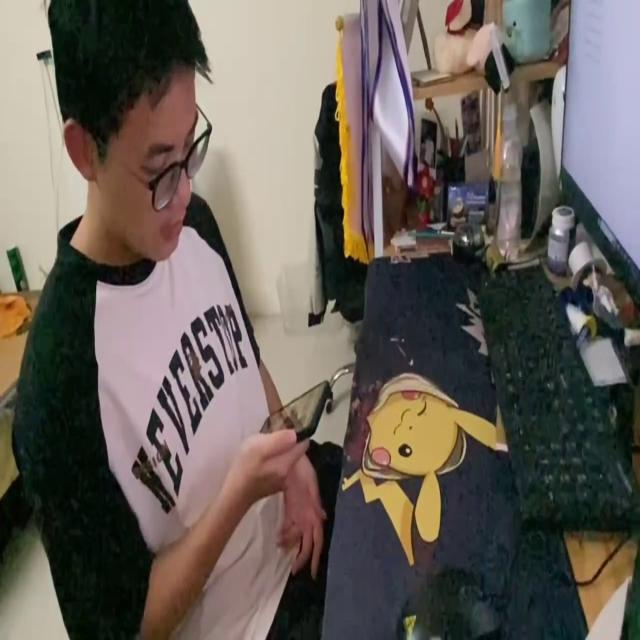laptop: (558, 0, 640, 315)
phone: (254, 380, 328, 437)
student: (16, 0, 338, 640)
